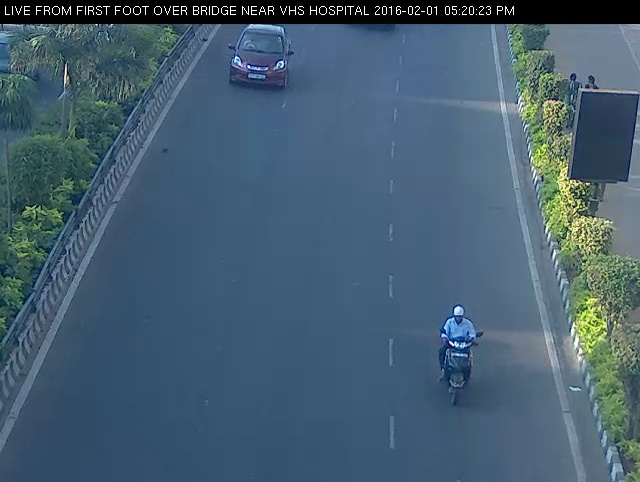Car: (216, 17, 310, 101)
Person: (426, 286, 488, 414)
